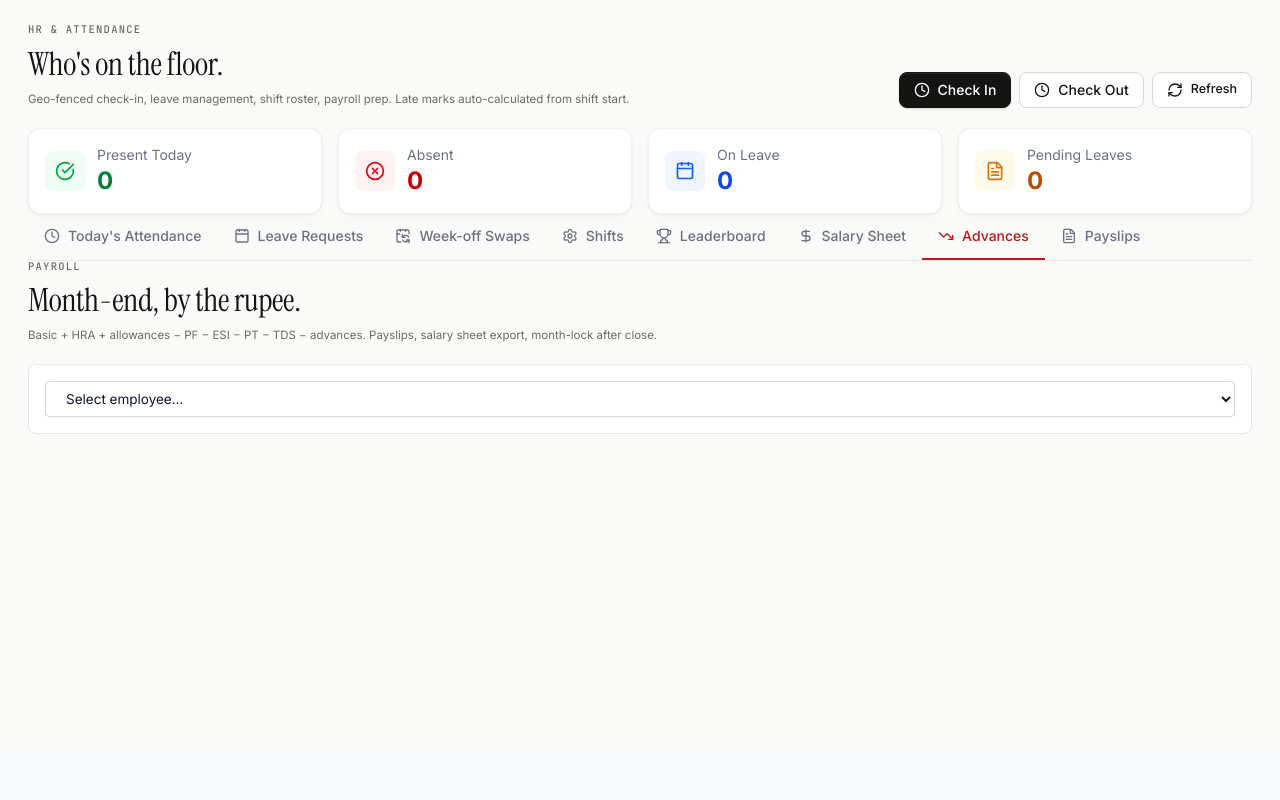
Test: each payroll section renders at its own URL inside the HR module › advances: the employee picker is fed by the layout load; picking one loads their advances
Step 1. Select "ZZ Priya Sheet" in the dropdown titled "Select employee for advances" → (640, 399), box x1=45 y1=381 x2=1235 y2=417
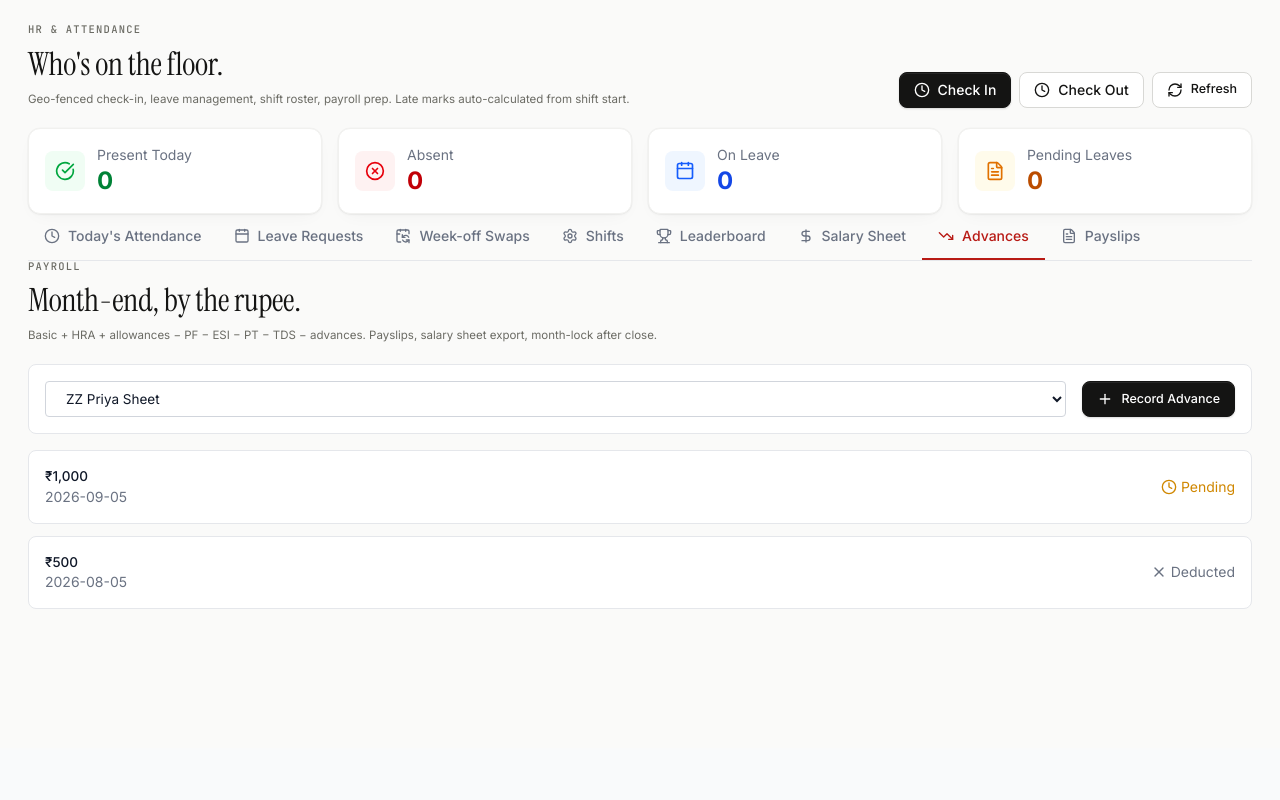
Now the text "Pending" is shown, box x1=1161 y1=477 x2=1235 y2=497
Now the text "Deducted" is shown, box x1=1151 y1=562 x2=1235 y2=582
Now the button "Record Advance" is shown, box x1=1082 y1=381 x2=1235 y2=417
